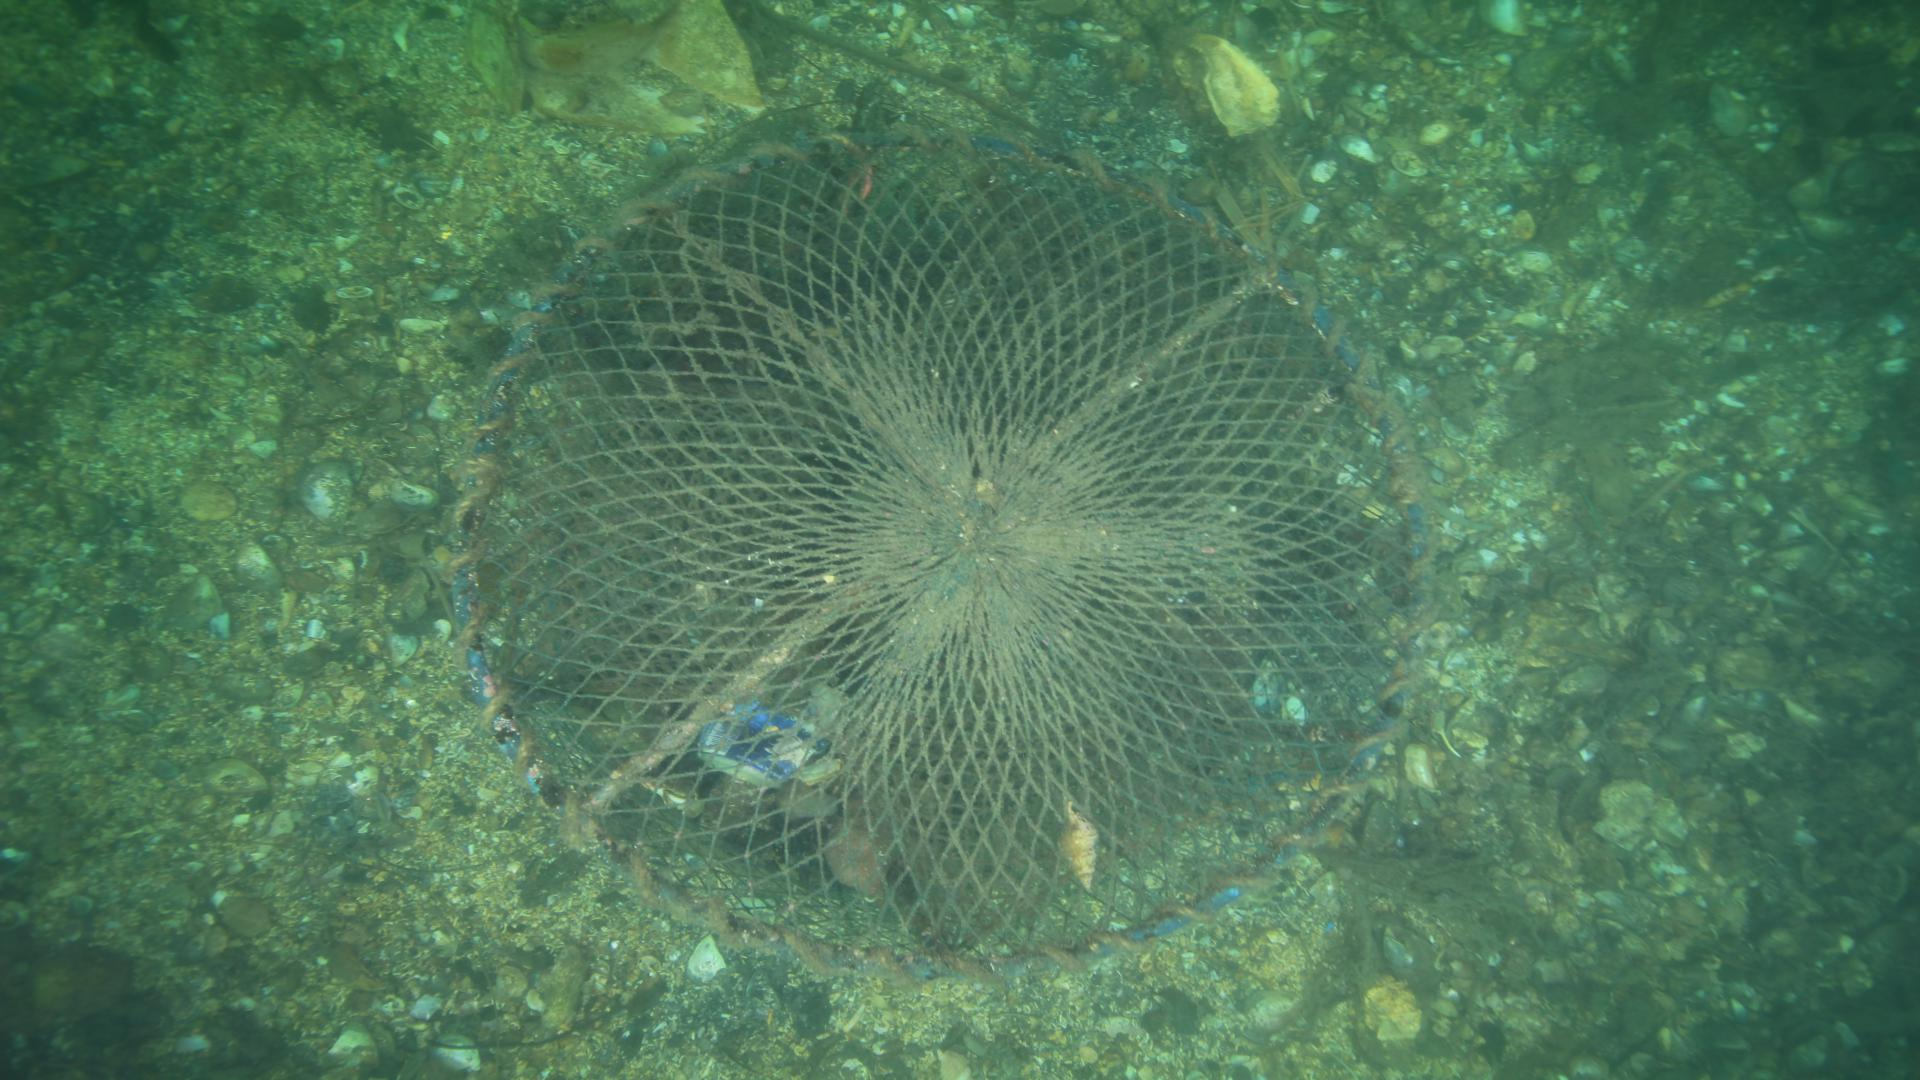circular fish trap: (452, 123, 1437, 978)
